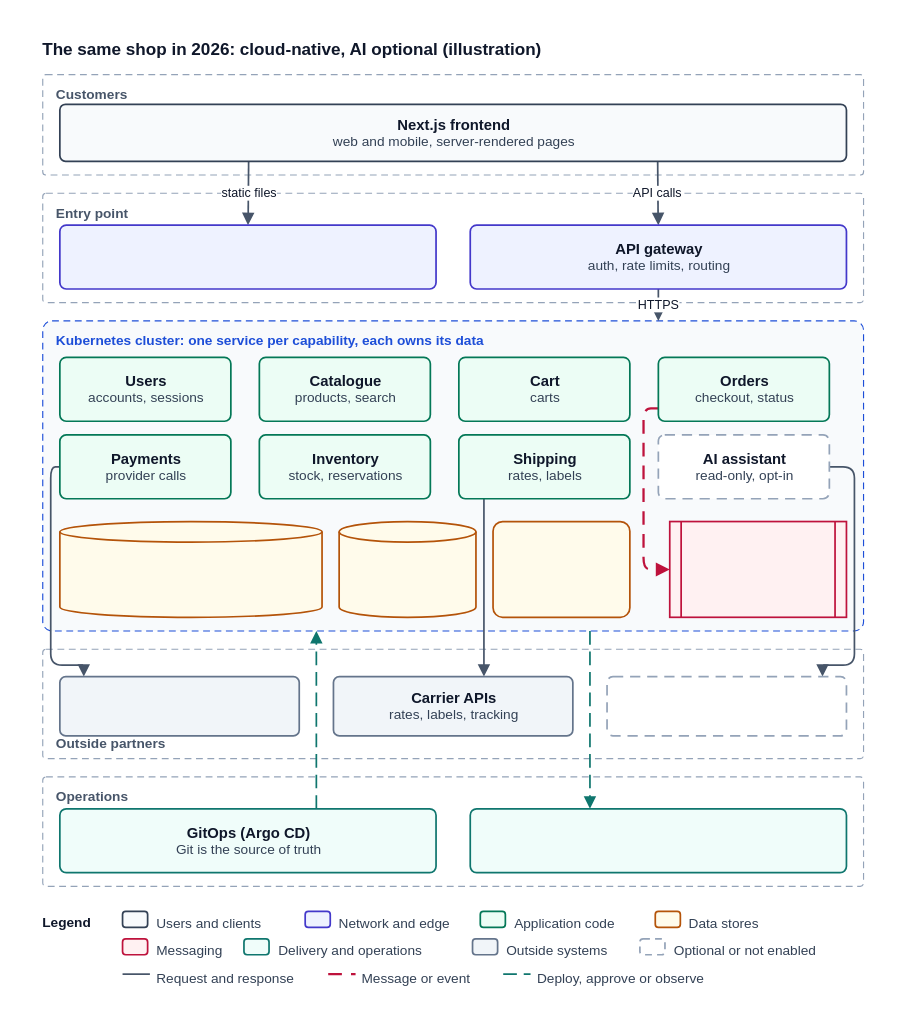
The diagram is 905 pixels wide and 1021 high, and some of its shapes have lost their labels. The centre of each missing label's shape, as x and y in pixels:
"CDN static assets, edge cache" goes at [247,256].
"Kafka order events" goes at [757,569].
"LLM provider only if the assistant is on" goes at [726,705].
"MongoDB catalogue" goes at [407,569].
"OpenTelemetry traces, metrics, logs to one backend" goes at [658,840].
"Payment provider cards, UPI, wallets" goes at [179,705].
"PostgreSQL users, orders, payments, stock" goes at [190,569].
"Redis carts, cache" goes at [561,569].
